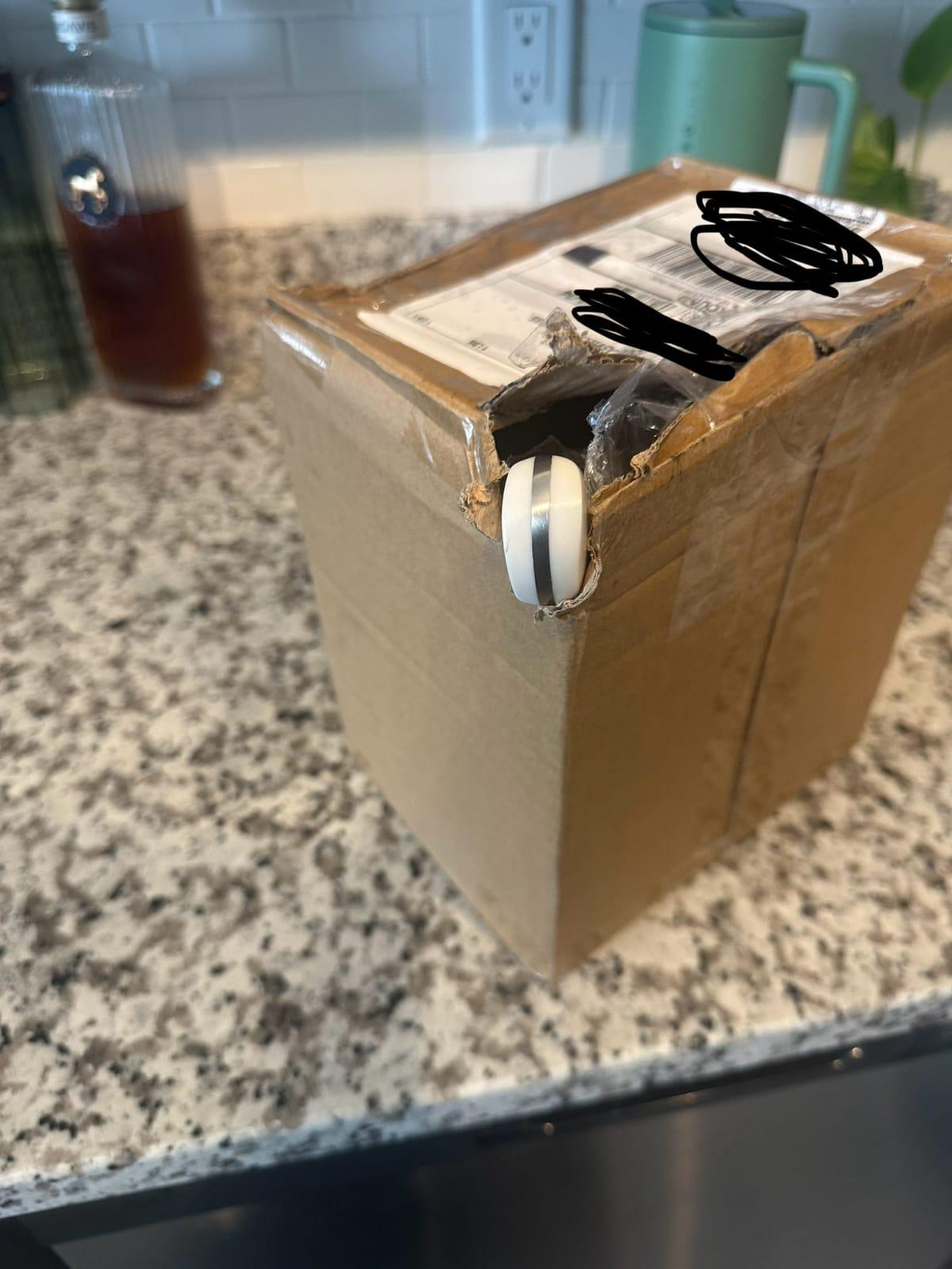damaged package: (451, 293, 912, 638)
undamaged: (245, 132, 950, 1027)
